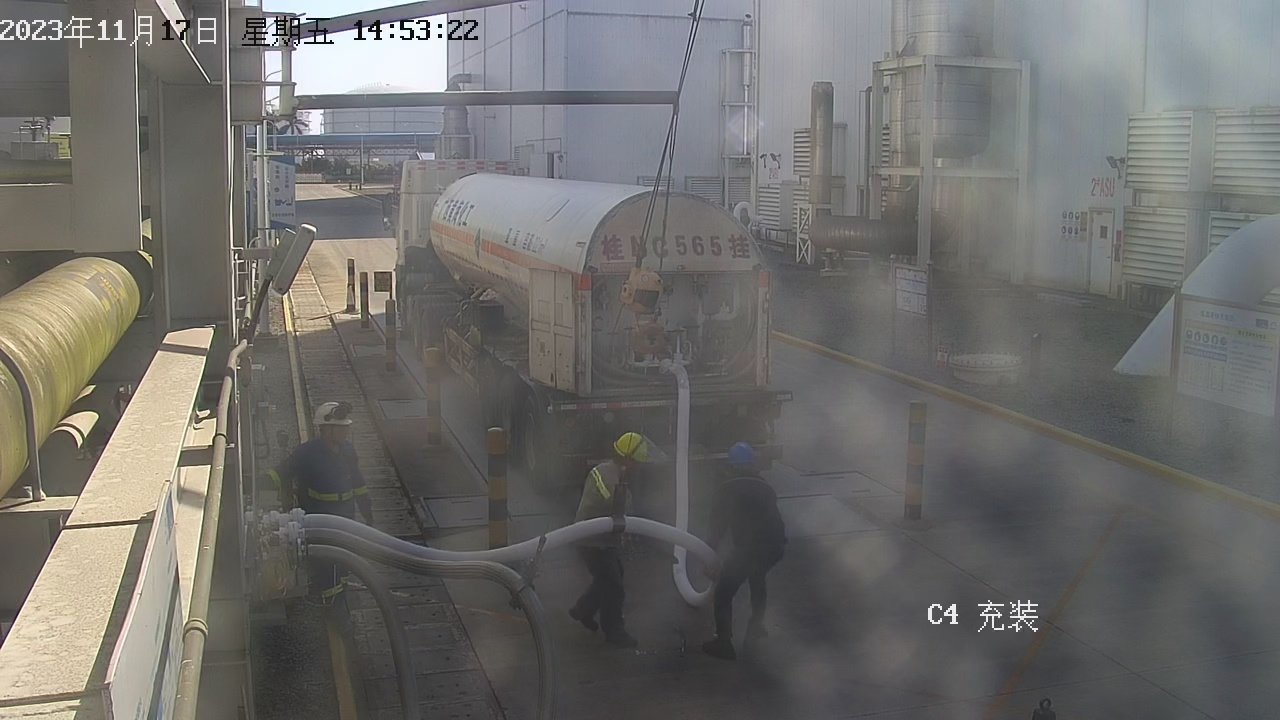Head_with_Helmet: (596, 421, 672, 480), (292, 393, 369, 450), (706, 434, 773, 482)
Uniform: (271, 431, 405, 641), (693, 470, 798, 668), (571, 458, 663, 644)
